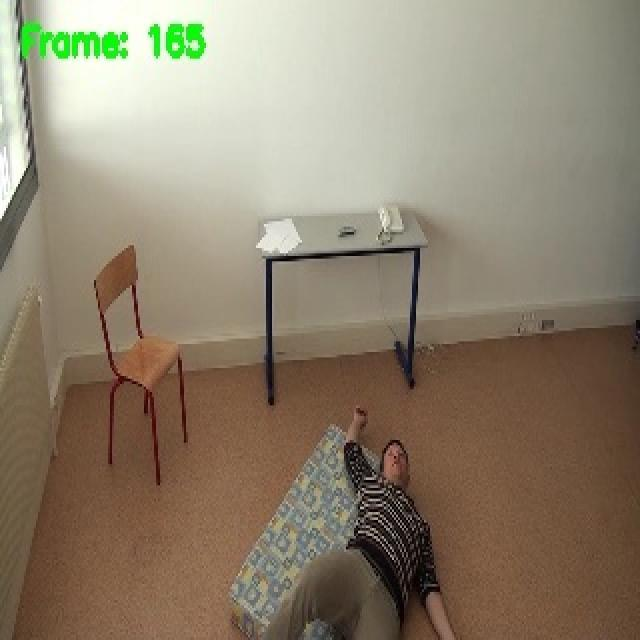fall: (253, 402, 464, 640)
